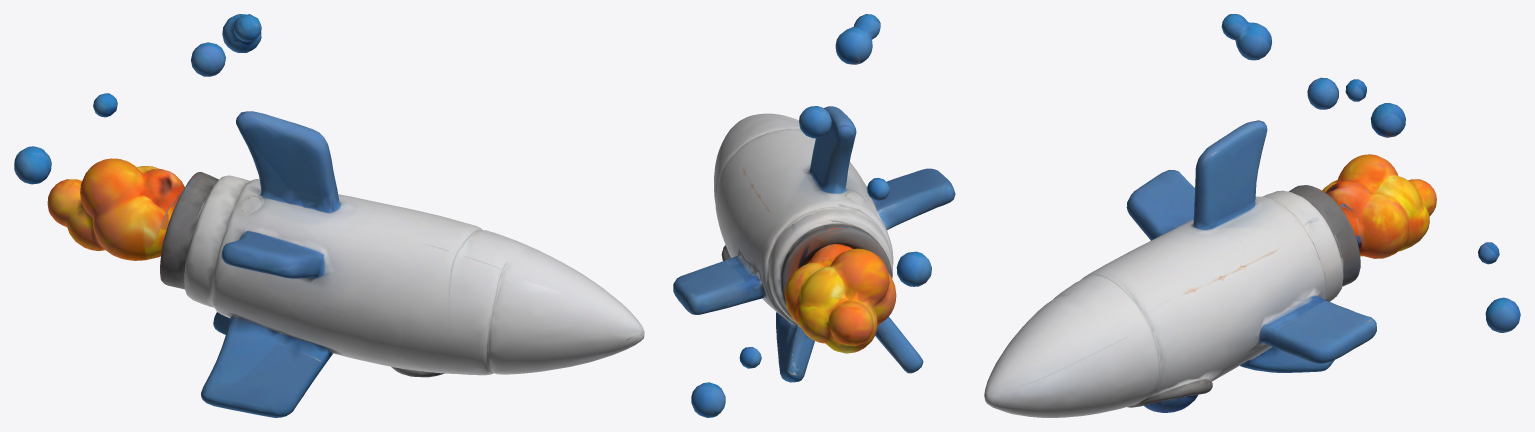
File: berilio.fbx
The picture shows the model from 3 angles, left to right: view 1: azimuth 30°, elevation 25°; view 2: azimuth 150°, elevation 25°; view 3: azimuth 270°, elevation 25°; orthographic projection. The views are drawn at different scales.
Visible parts, largest first — view 1: Mesh_0.002; view 2: Mesh_0.002; view 3: Mesh_0.002.
Part boxes in pixels (x1,y1,x2,y2): Mesh_0.002: (14, 14, 644, 417); Mesh_0.002: (673, 14, 955, 417); Mesh_0.002: (984, 14, 1520, 417).
Size of the model in its own units: 0.5976 by 0.5254 by 0.7218.
Materials: 1 (1 with a texture image).
